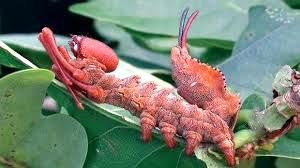Lobster Moth: (31, 23, 242, 165)
